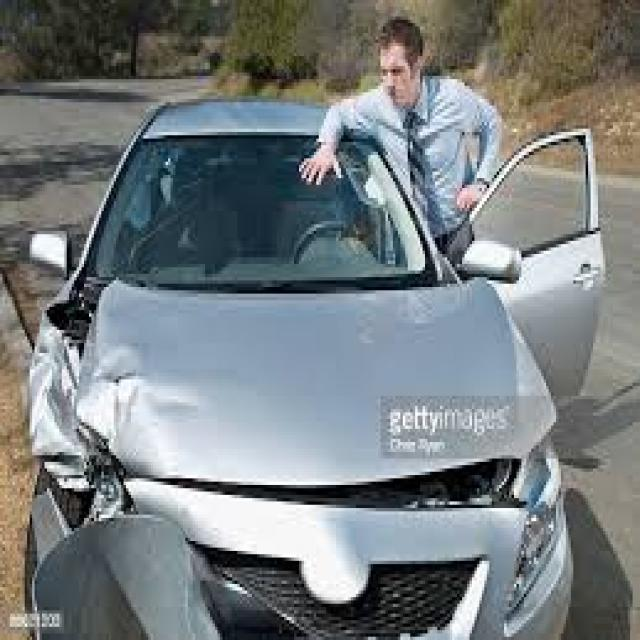damaged-hood: (47, 280, 549, 494)
